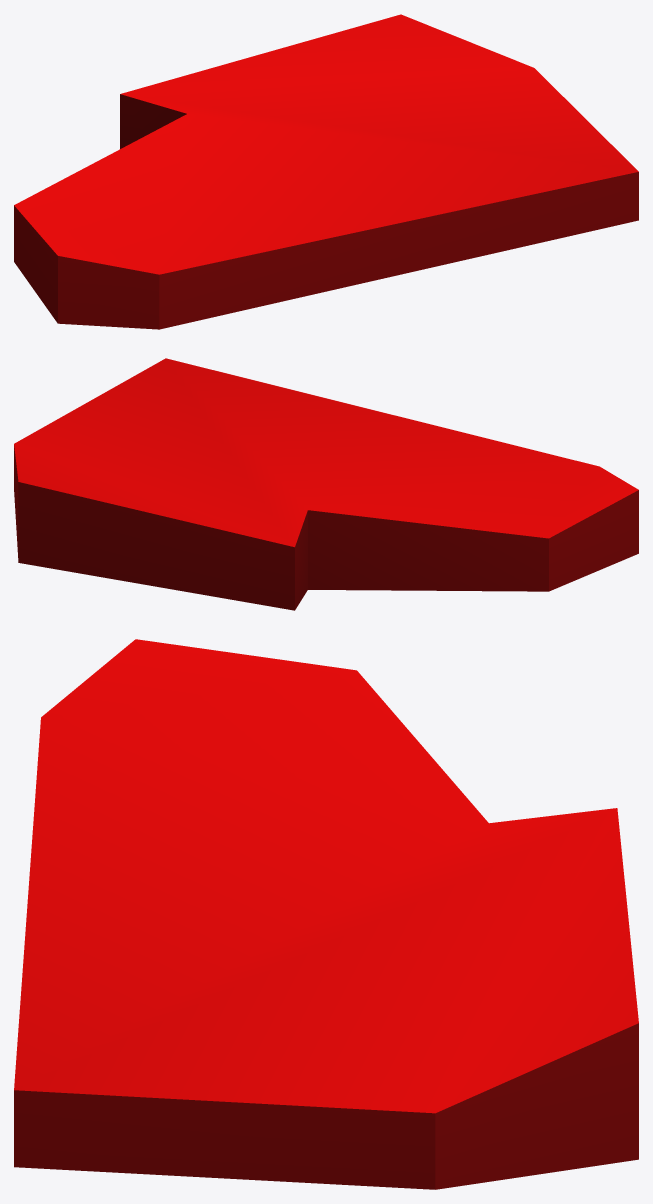
Rendered from geology-landforms-icedrift_v11.fbx.
3 renders of one model, top to bottom at view 1: azimuth 30°, elevation 25°; view 2: azimuth 150°, elevation 25°; view 3: azimuth 270°, elevation 25°, orthographic. The views are drawn at different scales.
Visible parts, largest first — view 1: IceDrift_v11; view 2: IceDrift_v11; view 3: IceDrift_v11.
Part boxes in pixels (x1,y1,x2,y2): IceDrift_v11: (14,14,638,329); IceDrift_v11: (14,358,638,610); IceDrift_v11: (14,639,638,1189).
Bounding box in the file's own units: 3.48 × 0.5017 × 2.08.
